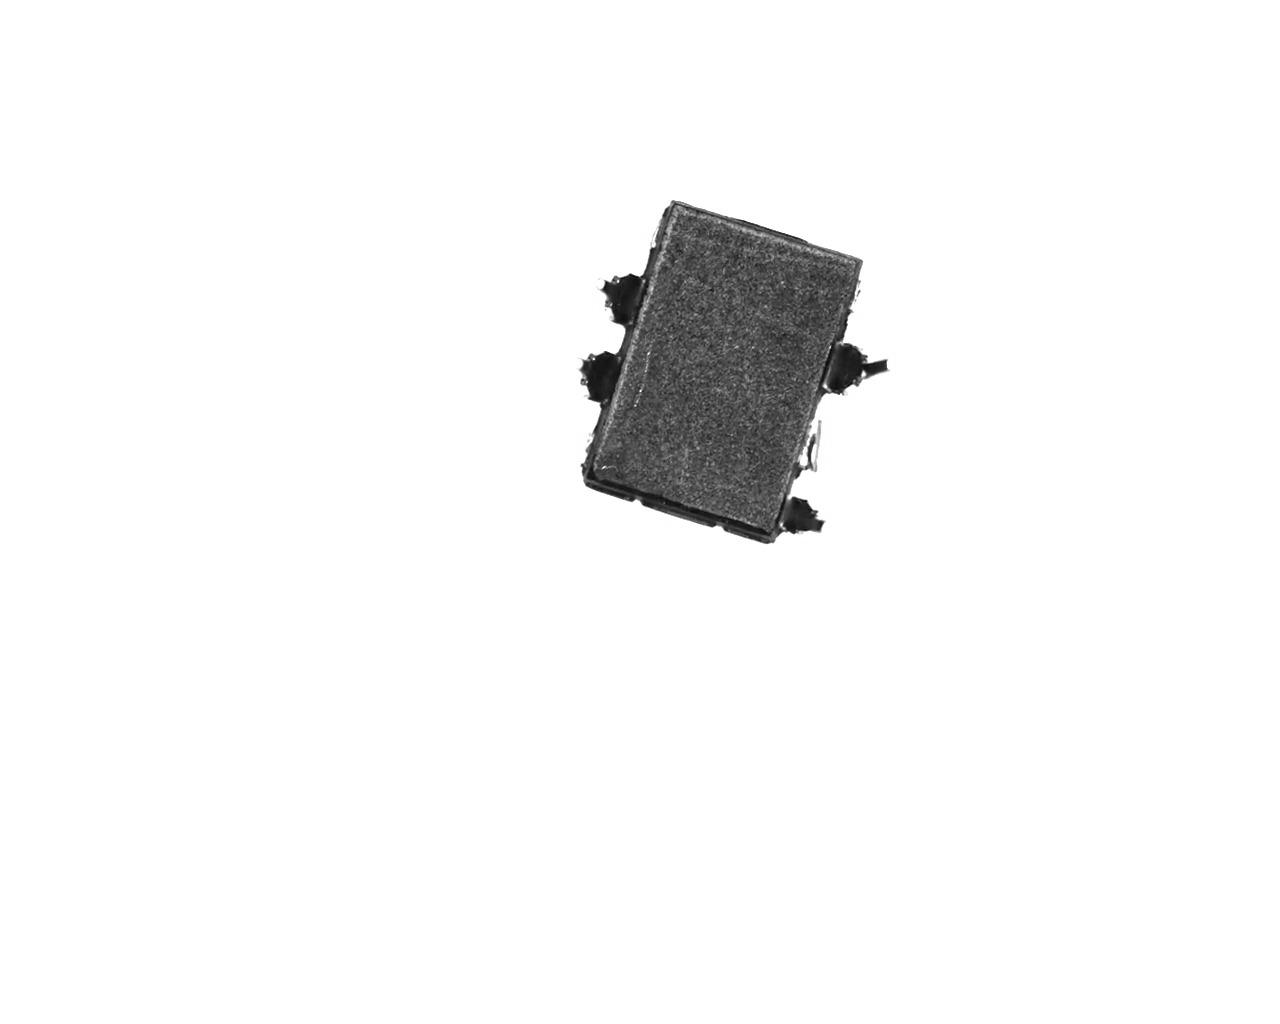brokenLeg: (828, 339, 898, 408), (569, 344, 630, 409), (592, 272, 653, 333), (784, 487, 824, 545)
missingLeg: (839, 276, 868, 331), (801, 413, 823, 480), (651, 203, 672, 267), (581, 432, 596, 473)
